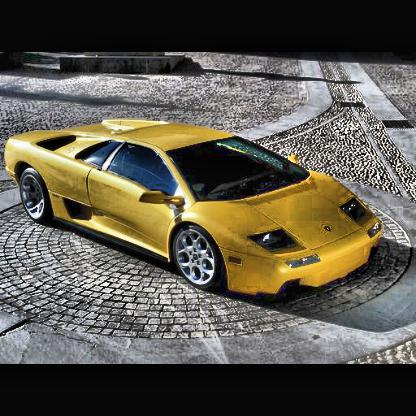Lamborghini Diablo Coupe 2001: (6, 121, 386, 304)
